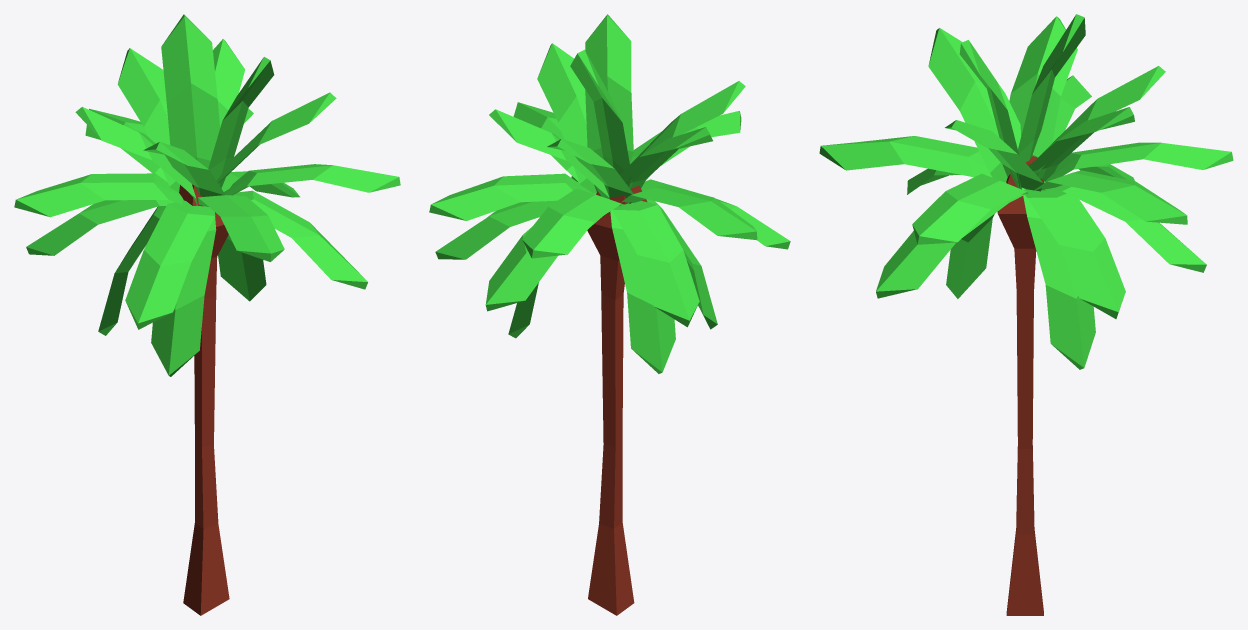
File: pohon 4.fbx
The picture shows the model from 3 angles, left to right: view 1: azimuth 30°, elevation 25°; view 2: azimuth 150°, elevation 25°; view 3: azimuth 270°, elevation 25°; orthographic projection. The views are drawn at different scales.
Visible parts, largest first — view 1: Tree Type7 04 Model; view 2: Tree Type7 04 Model; view 3: Tree Type7 04 Model.
Boxes of the visible parts, x1,y1,x2,y2 form: Tree Type7 04 Model: [14, 14, 400, 615]; Tree Type7 04 Model: [429, 14, 790, 615]; Tree Type7 04 Model: [819, 14, 1233, 615].
Bounding box in the file's own units: 1211 × 2118 × 1311.
